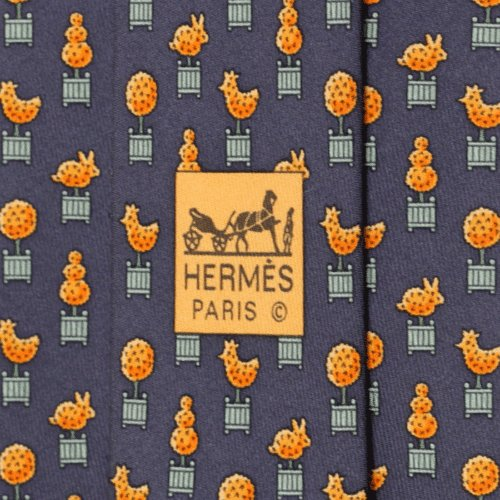HERMES: (178, 176, 304, 335)
